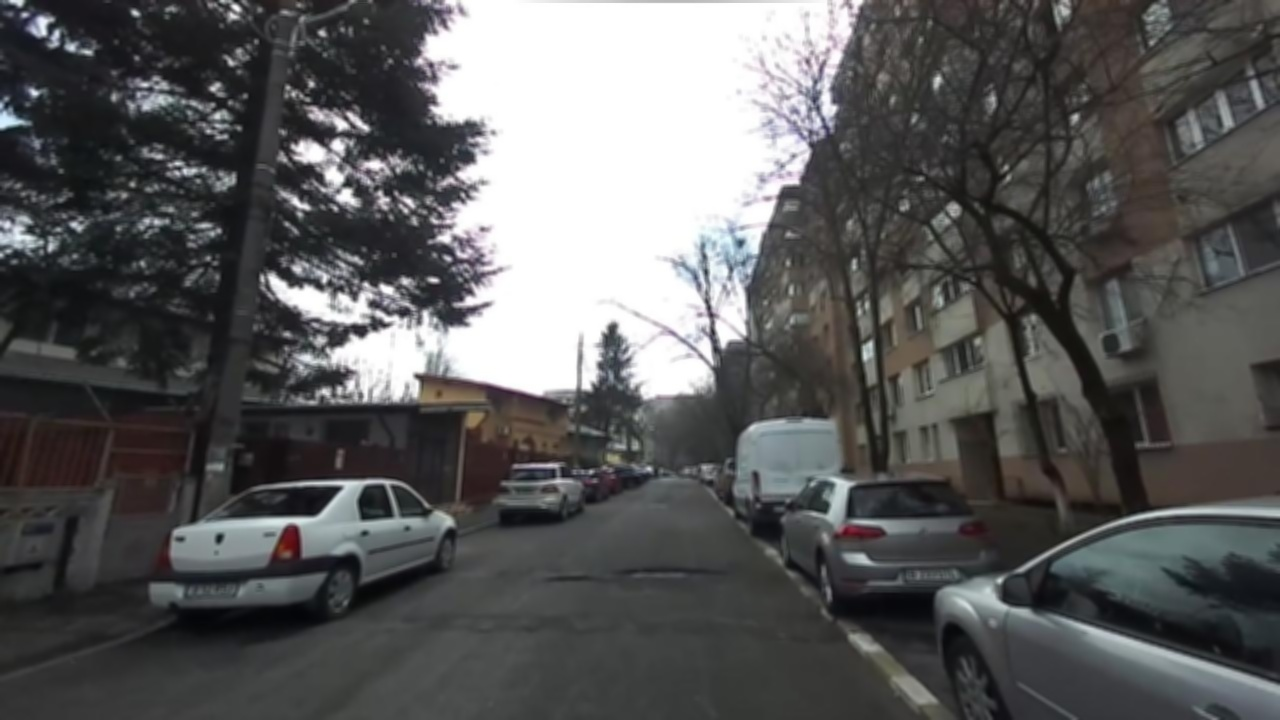pothole: (615, 563, 730, 578), (544, 571, 606, 582)
